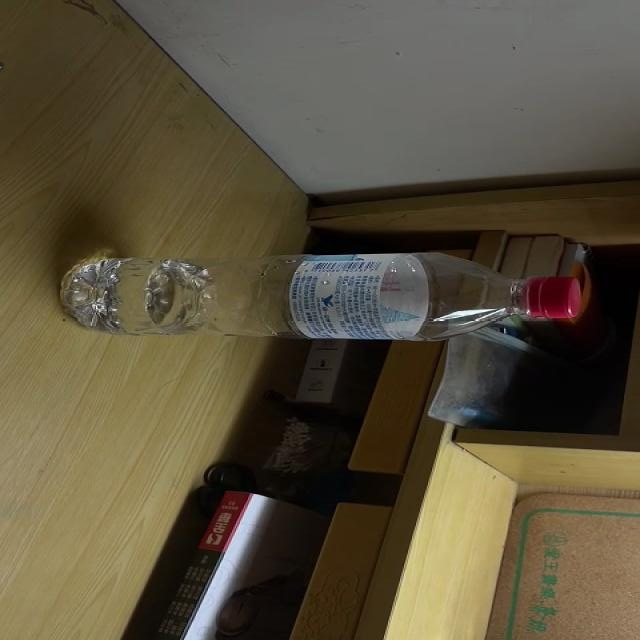Water: (56, 252, 589, 341)
